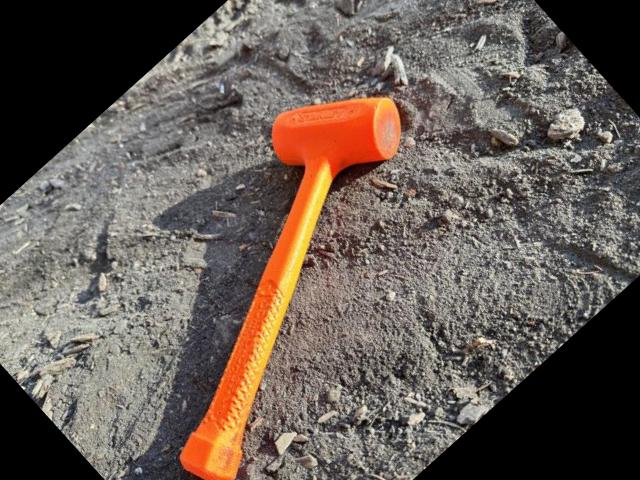hammer: (51, 53, 509, 480)
